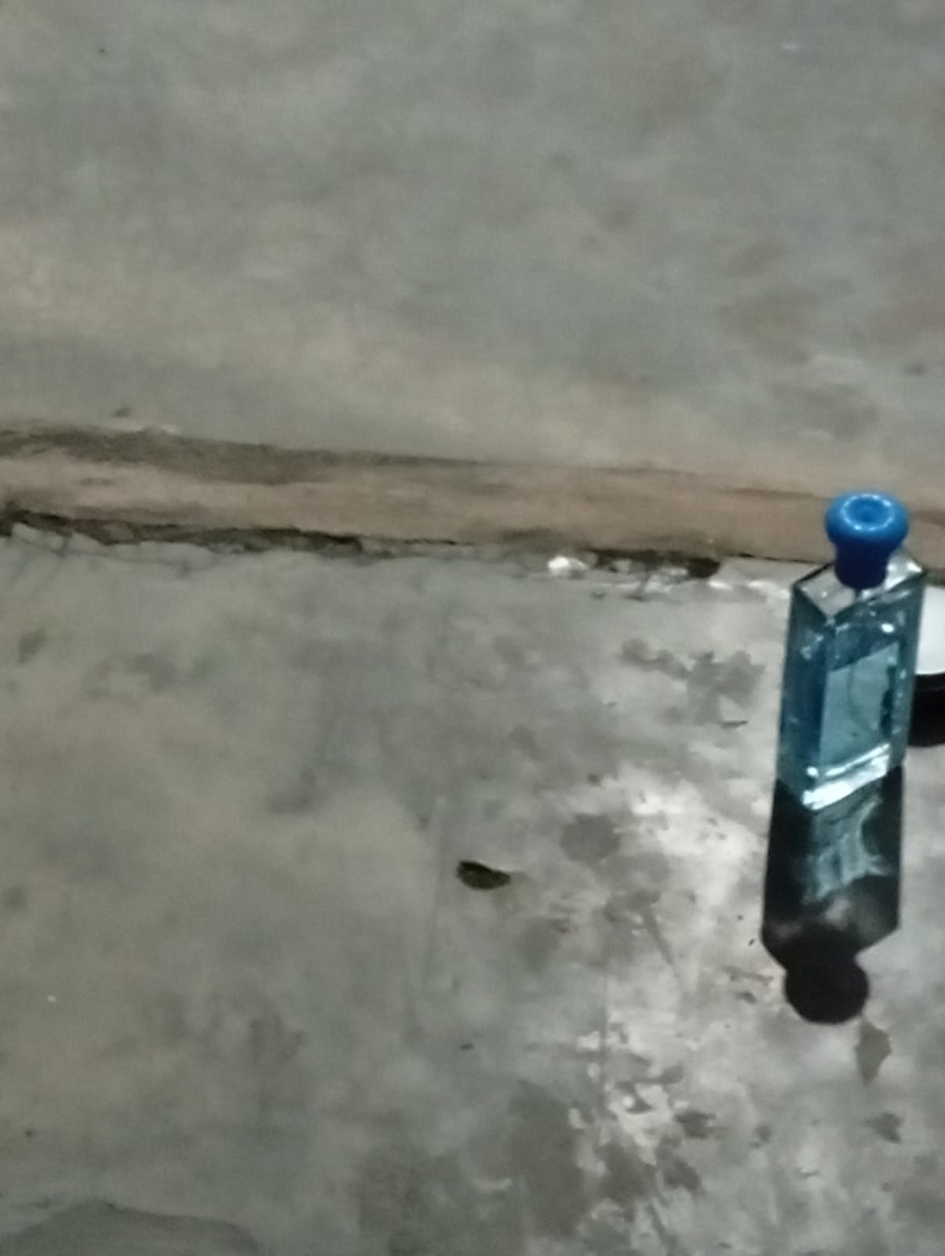Parfum: (760, 469, 927, 1030)
